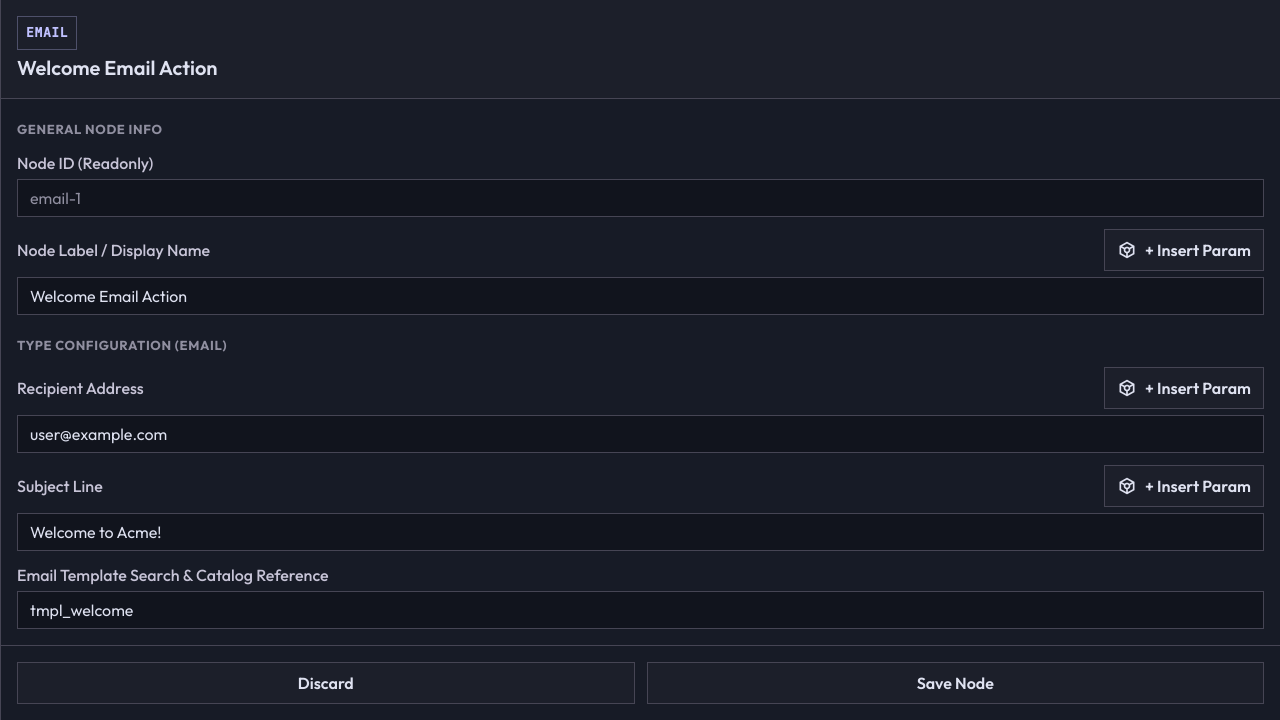
Test case: NodeInspector Component › isolated draft buffer: Save applies edits to editorStore graph state
Replace the text in the field with test id "inspector-input-recipient" with "new.user@domain.com" at (640, 434), box top-left (17, 415), bottom-right (1264, 453)
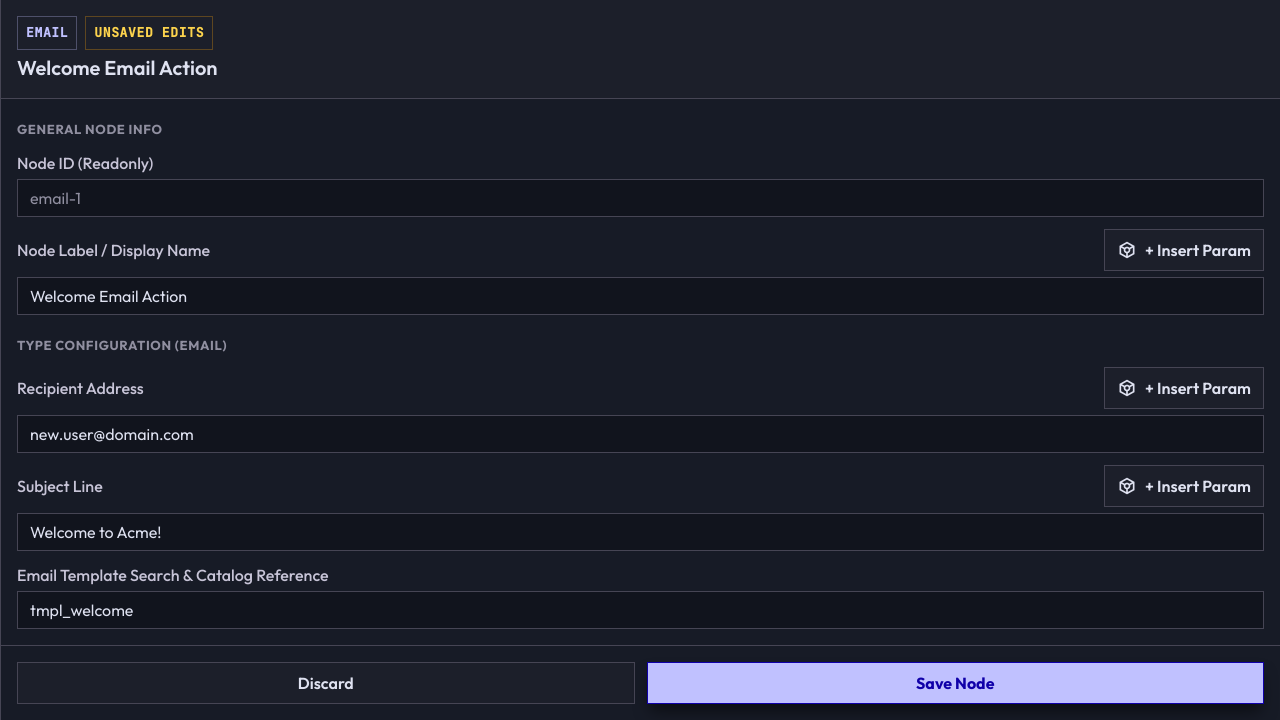
Replace the text in the field with test id "inspector-input-subject" with "Updated Email Subject" at (640, 532), box top-left (17, 513), bottom-right (1264, 551)
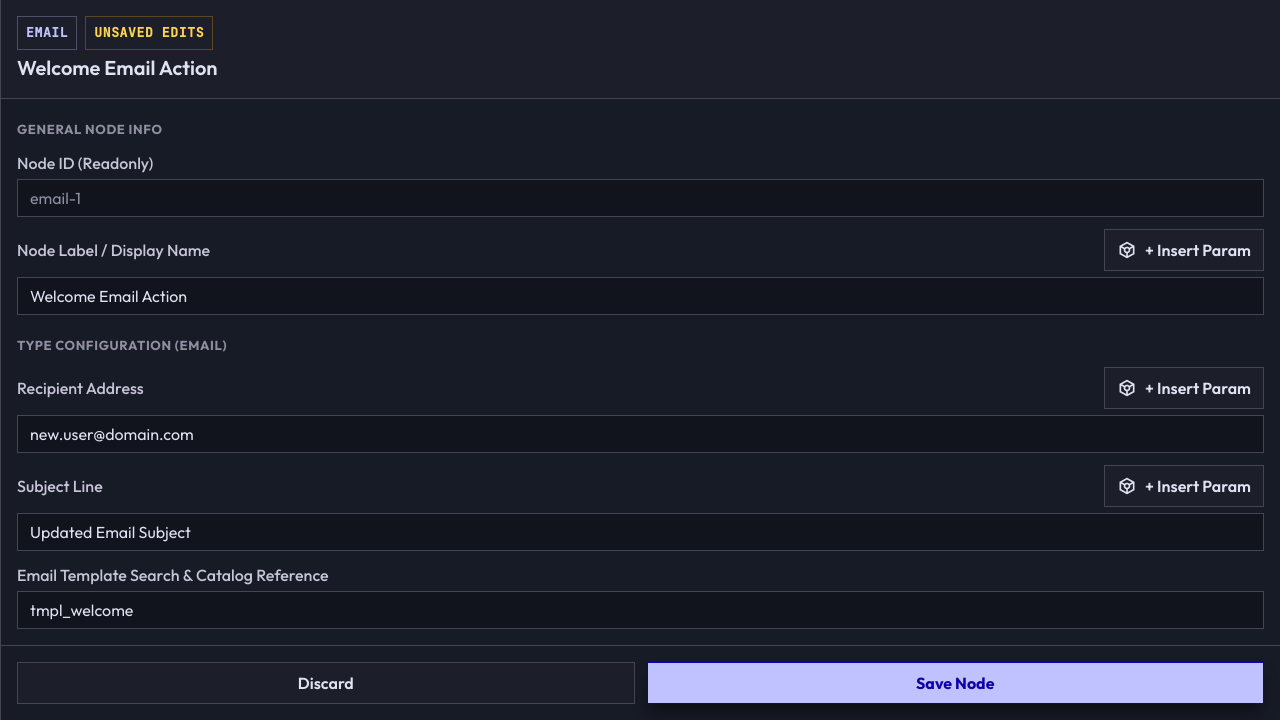
Expected: the element with test id "unsaved-inspector-badge" is shown, top-left (85, 16), bottom-right (213, 50)
Click the button with test id "inspector-save-btn" at (955, 683), box top-left (646, 662), bottom-right (1264, 704)
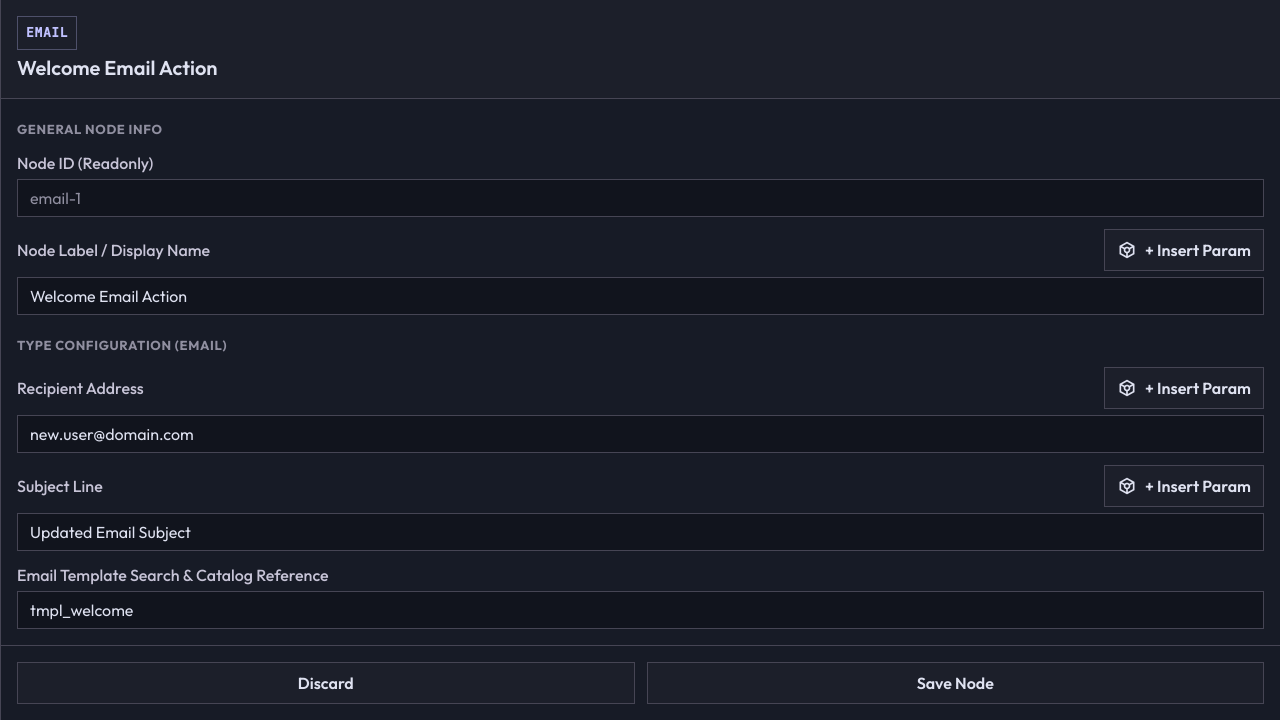
Expected: the element with test id "unsaved-inspector-badge" is gone
